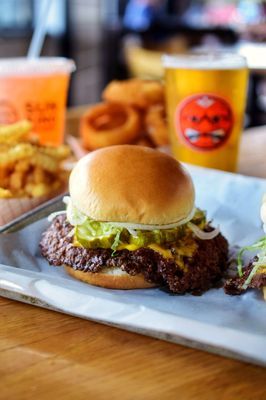pizza: (162, 51, 251, 173), (0, 57, 75, 147)
soup: (37, 144, 230, 295)
